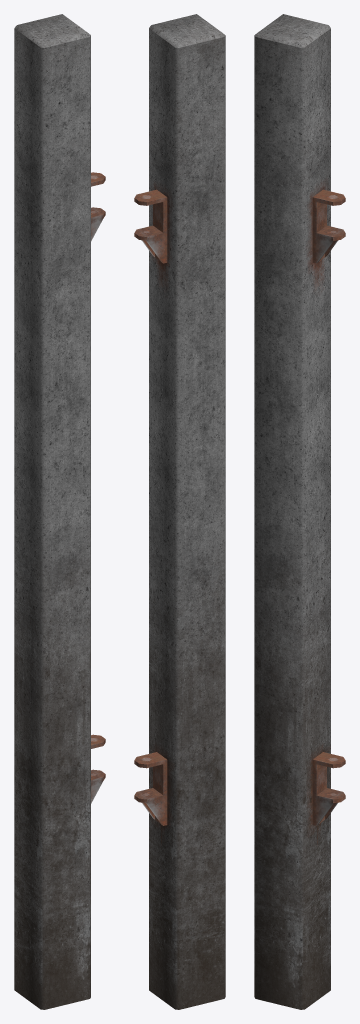
The model's file is SM_Access_Gate_01_FencePost.FBX.
3 renders of one model, left to right at view 1: azimuth 30°, elevation 25°; view 2: azimuth 210°, elevation 25°; view 3: azimuth 330°, elevation 25°, orthographic.
Parts seen in each view (by area): view 1: SM_Access_Gate_01_FencePost; view 2: SM_Access_Gate_01_FencePost; view 3: SM_Access_Gate_01_FencePost.
Part boxes in pixels (x1,y1,x2,y2): SM_Access_Gate_01_FencePost: (14, 14, 105, 1009); SM_Access_Gate_01_FencePost: (134, 14, 225, 1009); SM_Access_Gate_01_FencePost: (254, 14, 345, 1009).
Size of the model in its own units: 30.02 by 20 by 366.
